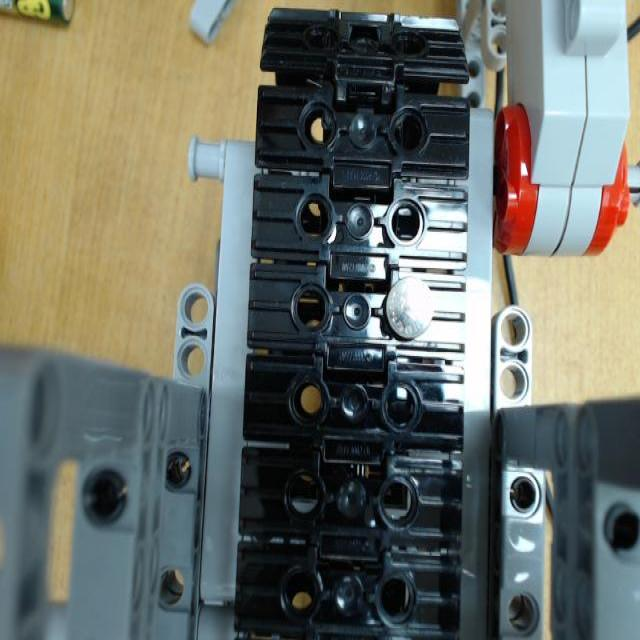COIN: (384, 274, 434, 339)
